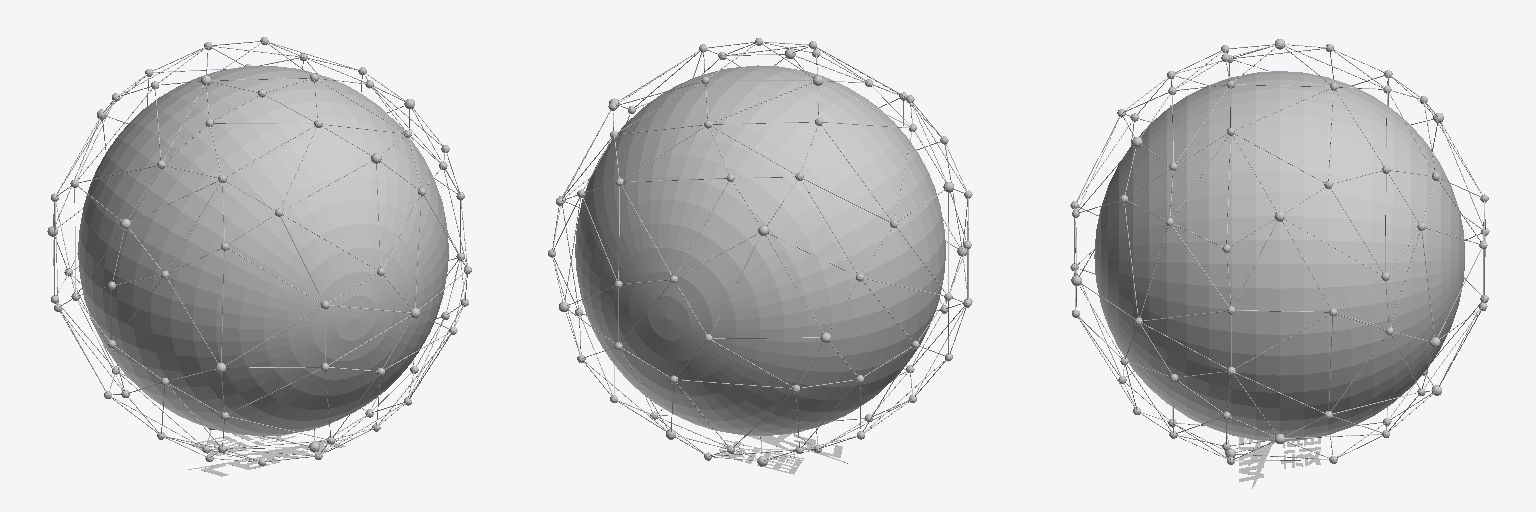
Rendered from ball2.obj.
3 renders of one model, left to right at view 1: azimuth 30°, elevation 25°; view 2: azimuth 150°, elevation 25°; view 3: azimuth 270°, elevation 25°, orthographic.
Parts seen in each view (by area): view 1: Sphere001, GeoSphere001, Shape1, GeoSphere002; view 2: Sphere001, GeoSphere001, Shape1, GeoSphere002; view 3: Sphere001, GeoSphere001, Shape1, GeoSphere002.
Boxes of the visible parts, box(x1,y1,x2,y2) form: Sphere001: box(78, 66, 448, 435); GeoSphere001: box(51, 37, 471, 465); Shape1: box(188, 434, 352, 476); GeoSphere002: box(47, 75, 419, 452); Sphere001: box(575, 65, 945, 435); GeoSphere001: box(548, 38, 972, 460); Shape1: box(715, 434, 847, 474); GeoSphere002: box(559, 49, 966, 466); Sphere001: box(1094, 71, 1464, 440); GeoSphere001: box(1070, 44, 1489, 464); Shape1: box(1239, 437, 1320, 488); GeoSphere002: box(1071, 39, 1443, 457).
Bounding box in the file's own units: 19589 × 19579 × 19338.